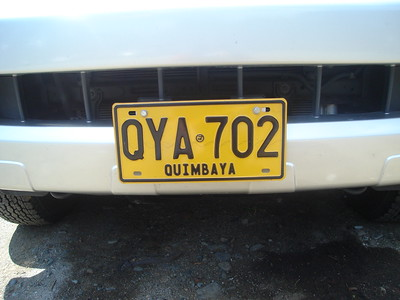placa_carro: (109, 96, 297, 185)
